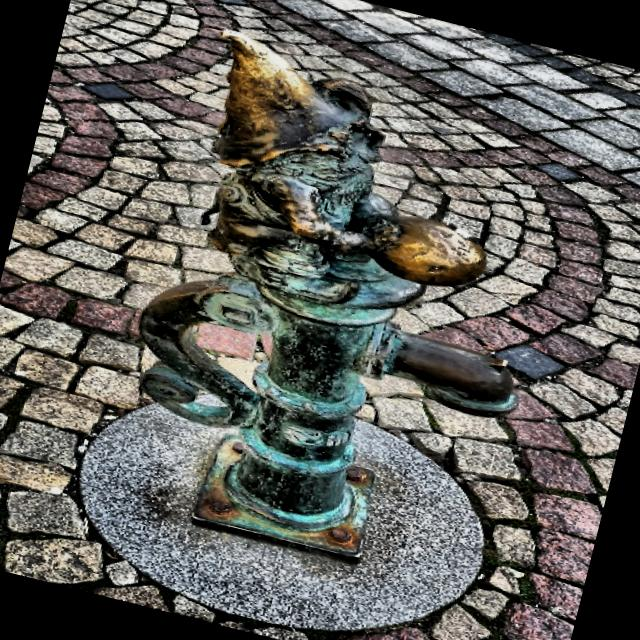Orzezwiacz: (136, 32, 517, 559)
